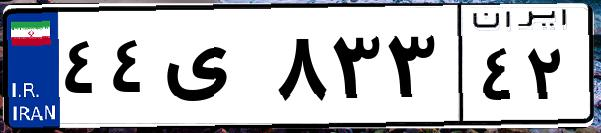2: (525, 38, 570, 115)
3: (385, 28, 445, 110), (330, 28, 385, 110)
4: (57, 26, 110, 100), (475, 38, 525, 113), (110, 28, 158, 98)
8: (270, 28, 330, 110)
ی: (158, 20, 270, 120)
